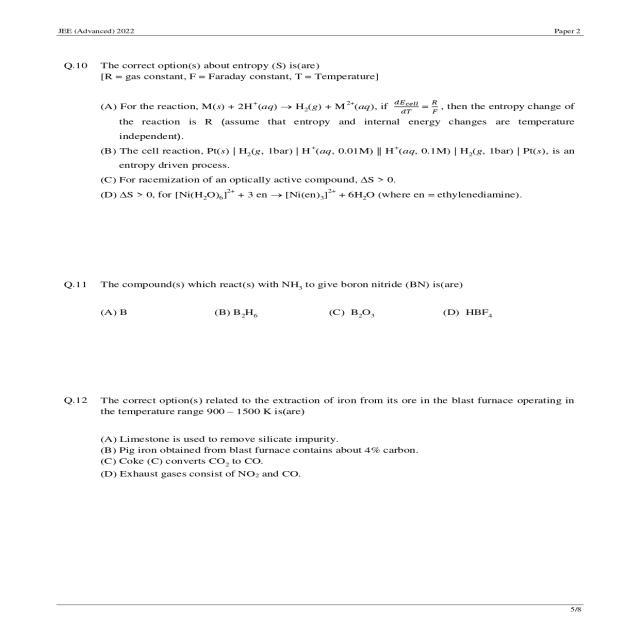Answer_Block: (32, 90, 604, 228), (29, 424, 604, 492), (26, 298, 597, 346)
Question_Answer_Block: (34, 49, 606, 231), (31, 390, 602, 492), (30, 262, 601, 346)
Question_Block: (30, 259, 597, 299), (30, 390, 602, 428), (32, 58, 608, 90)
Question_Paper_Area: (33, 37, 600, 547)
